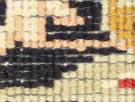Knot: (83, 94, 93, 101), (114, 55, 125, 61), (13, 86, 21, 94), (36, 86, 44, 94), (44, 40, 52, 48), (52, 40, 60, 48), (67, 40, 75, 48), (52, 86, 60, 94), (28, 94, 37, 101), (98, 55, 108, 61), (117, 79, 125, 86), (45, 86, 52, 94), (60, 94, 68, 101), (125, 94, 133, 101), (52, 71, 59, 79), (109, 94, 117, 101), (67, 71, 75, 78), (13, 94, 21, 101), (21, 94, 29, 101), (117, 94, 125, 101), (14, 40, 21, 48), (52, 17, 59, 25), (59, 71, 67, 78), (101, 94, 109, 101), (44, 71, 52, 78), (6, 48, 13, 56), (59, 33, 67, 40), (99, 40, 108, 46), (82, 40, 91, 46), (45, 94, 52, 101), (37, 94, 44, 101), (125, 79, 132, 86), (13, 48, 20, 55), (52, 64, 59, 71), (13, 79, 20, 86), (6, 79, 13, 86), (125, 88, 133, 94), (117, 88, 125, 94), (5, 88, 13, 94), (21, 40, 29, 46), (36, 40, 44, 46), (70, 7, 76, 15), (90, 48, 99, 53), (54, 94, 60, 101), (60, 40, 67, 46), (29, 88, 36, 94), (70, 94, 76, 101), (22, 48, 28, 55), (59, 2, 67, 7), (75, 25, 83, 30), (83, 56, 91, 61), (22, 88, 28, 94), (93, 40, 99, 46), (22, 56, 28, 61)
